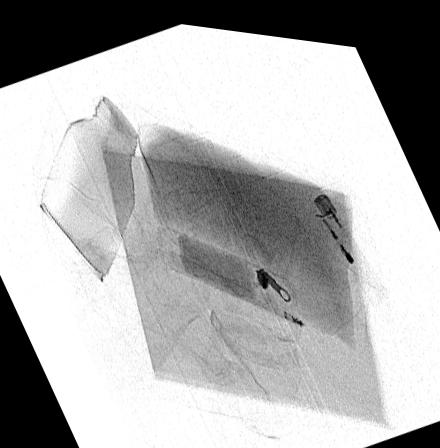Lighter: (312, 183, 389, 295)
